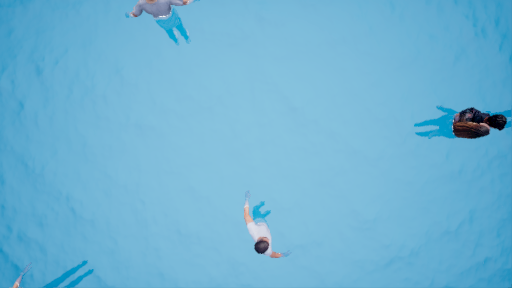person: (238, 186, 291, 260), (418, 104, 507, 147), (125, 1, 196, 48)
